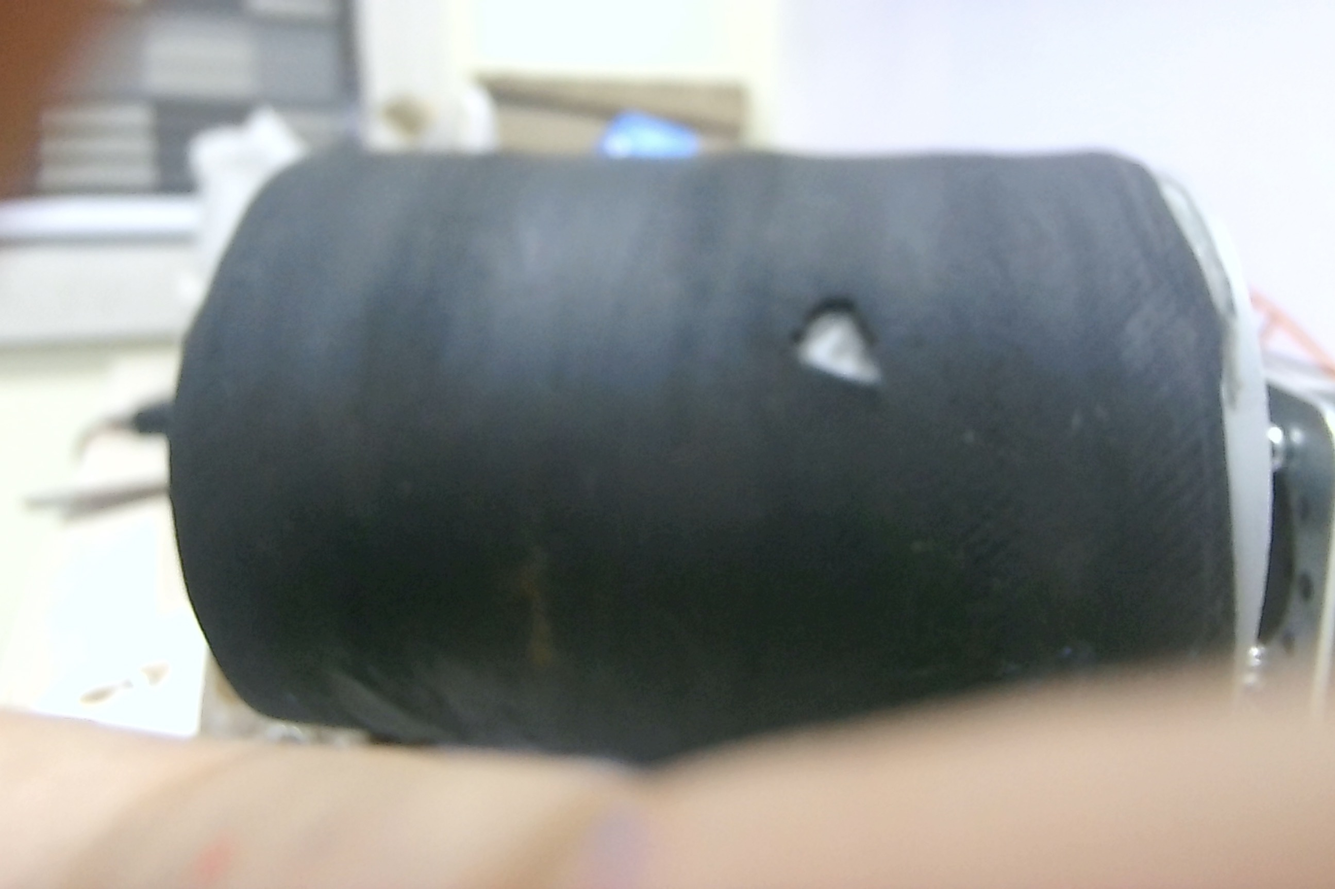hole: (782, 293, 890, 392)
